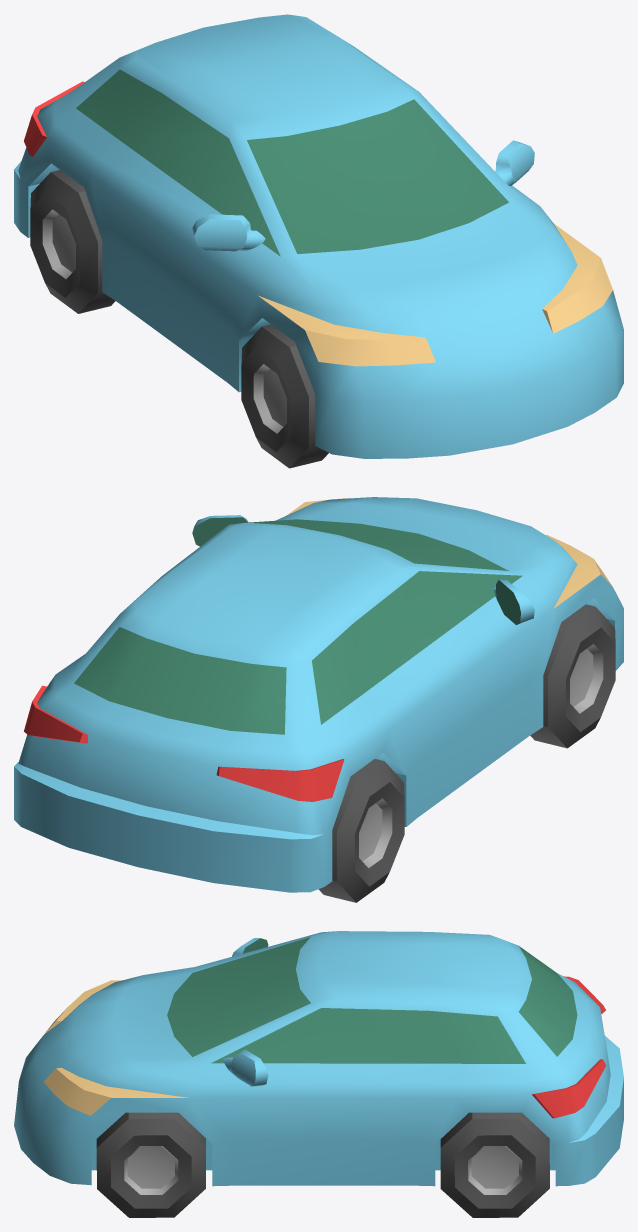
File: Town_Vehicle_CompactCar.FBX
3 views of the same model, one above another, from view 1: azimuth 30°, elevation 25°; view 2: azimuth 150°, elevation 25°; view 3: azimuth 270°, elevation 25° (orthographic). The views are drawn at different scales.
Visible parts, largest first — view 1: Vehicle_CompactCar; view 2: Vehicle_CompactCar; view 3: Vehicle_CompactCar.
Boxes of the visible parts, x1,y1,x2,y2 form: Vehicle_CompactCar: [14, 14, 623, 468]; Vehicle_CompactCar: [14, 497, 623, 902]; Vehicle_CompactCar: [14, 931, 623, 1217].
Bounding box in the file's own units: 120 × 80.72 × 228.
